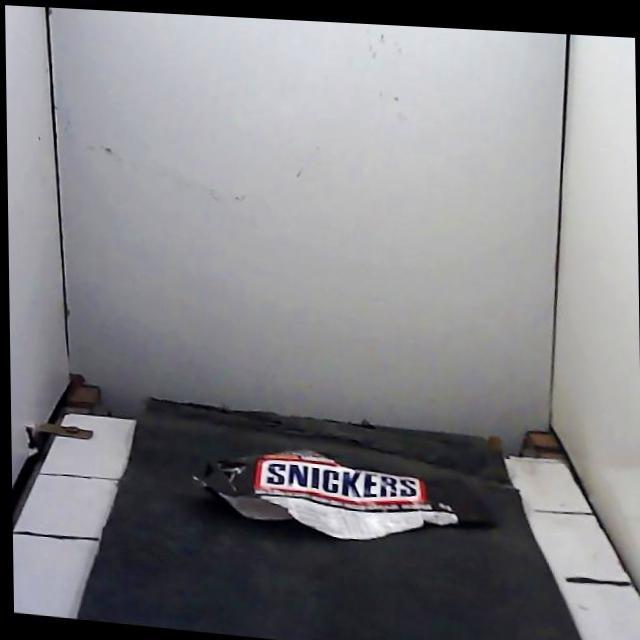plastico: (196, 450, 493, 539)
